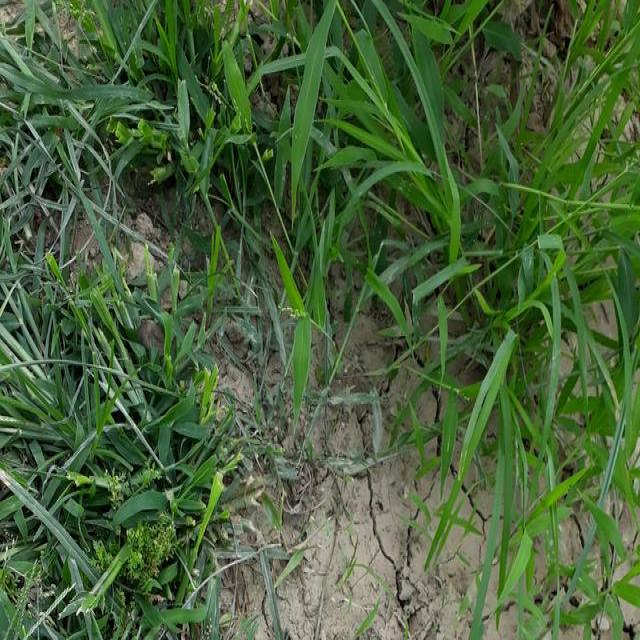weed: (3, 176, 262, 640), (289, 13, 640, 298)
